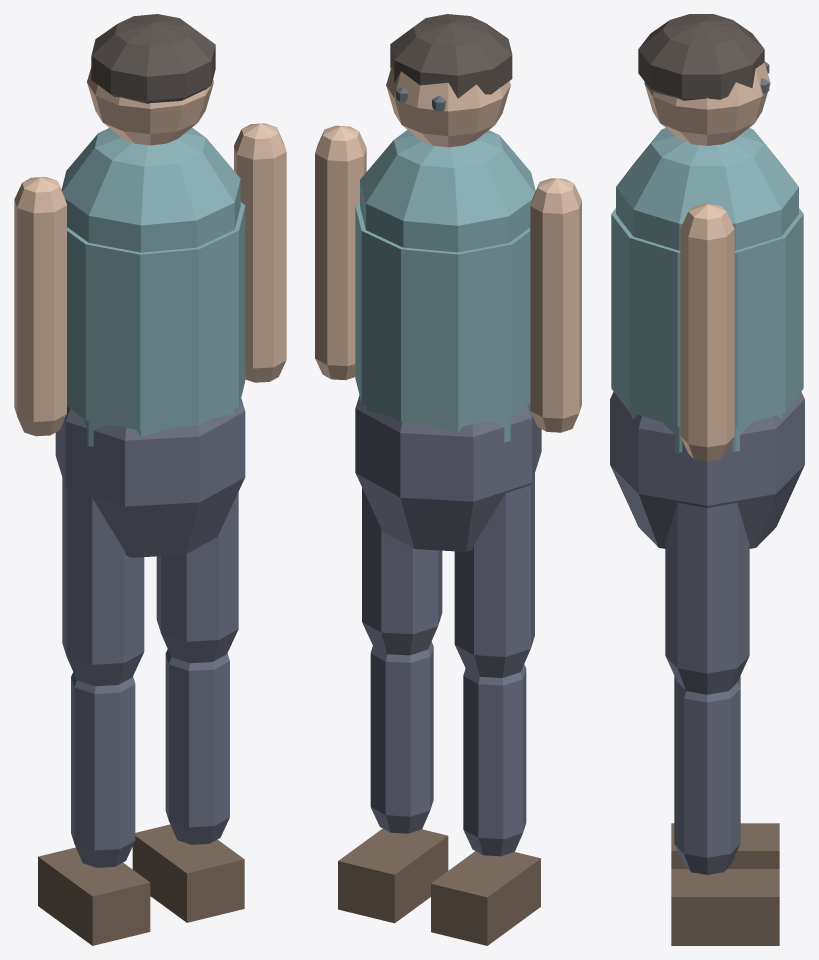
Rendered from vessel_woman.glb.
3 renders of one model, left to right at view 1: azimuth 30°, elevation 25°; view 2: azimuth 150°, elevation 25°; view 3: azimuth 270°, elevation 25°, orthographic.
Parts seen in each view (by area): view 1: VesselBody_woman; view 2: VesselBody_woman; view 3: VesselBody_woman.
Boxes of the visible parts, left/top/right/bottom form: VesselBody_woman: left=14, top=14, right=286, bottom=945; VesselBody_woman: left=315, top=14, right=581, bottom=945; VesselBody_woman: left=610, top=14, right=804, bottom=945.
Size of the model in its own units: 0.508 by 1.63 by 0.324.
